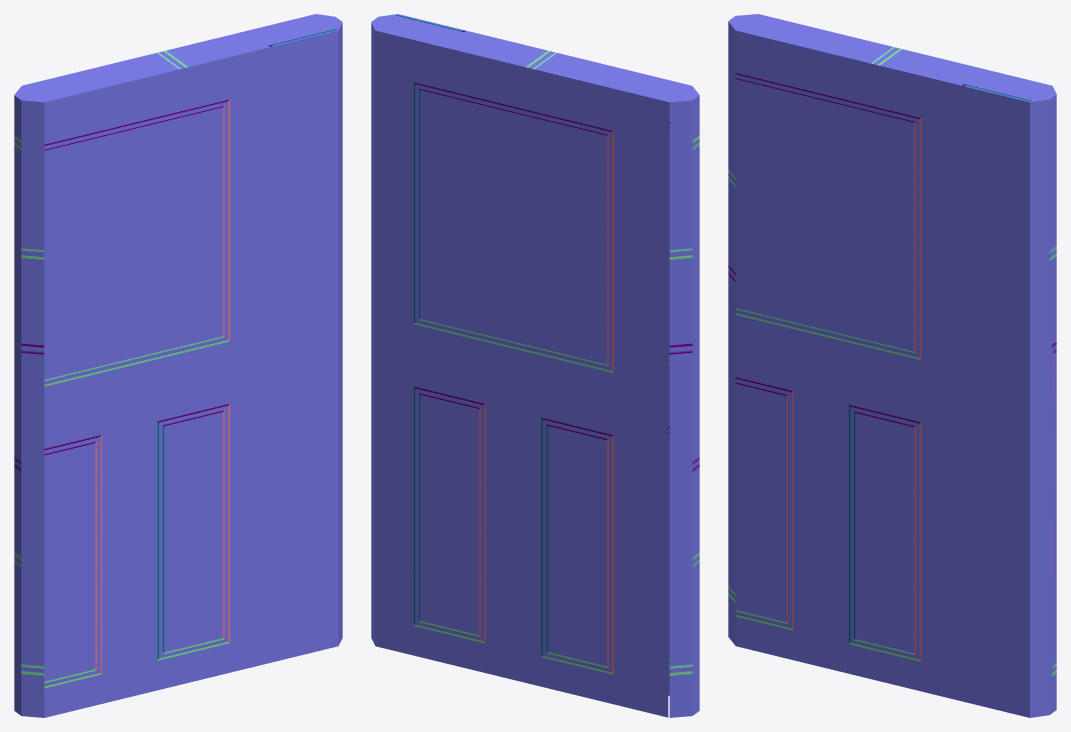
Rendered from wall.fbx.
3 renders of one model, left to right at view 1: azimuth 30°, elevation 25°; view 2: azimuth 150°, elevation 25°; view 3: azimuth 330°, elevation 25°, orthographic.
Visible parts, largest first — view 1: Cube.003; view 2: Cube.003; view 3: Cube.003.
Part boxes in pixels (x1,y1,x2,y2): Cube.003: [14, 14, 342, 717]; Cube.003: [371, 14, 699, 717]; Cube.003: [728, 14, 1056, 717].
Bounding box in the file's own units: 219 × 400 × 26.69.
1 material, 1 textured.
